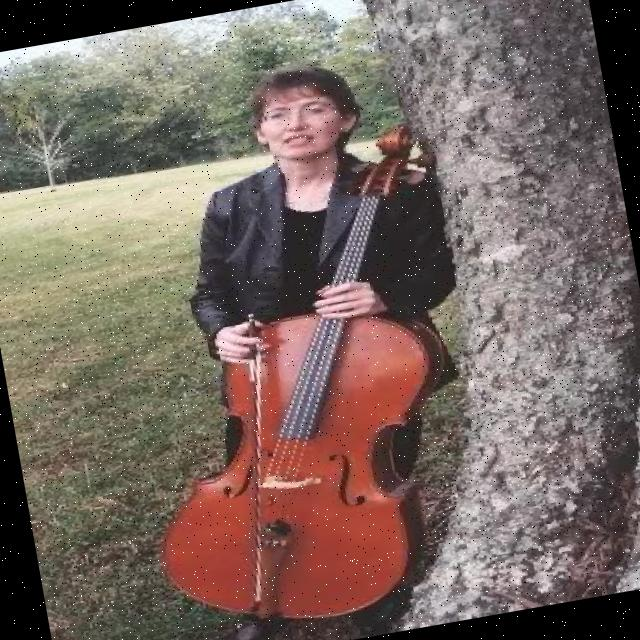cello: (89, 117, 498, 640)
